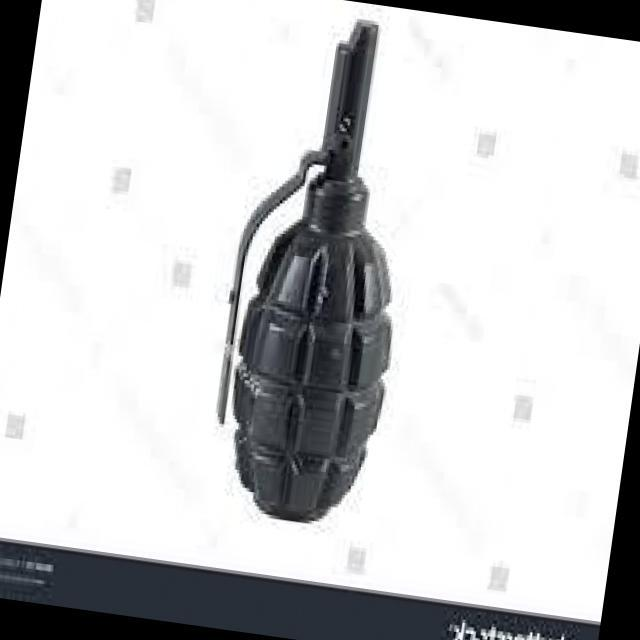grenade: (198, 0, 445, 541)
